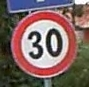limite 30: (8, 8, 77, 78)
